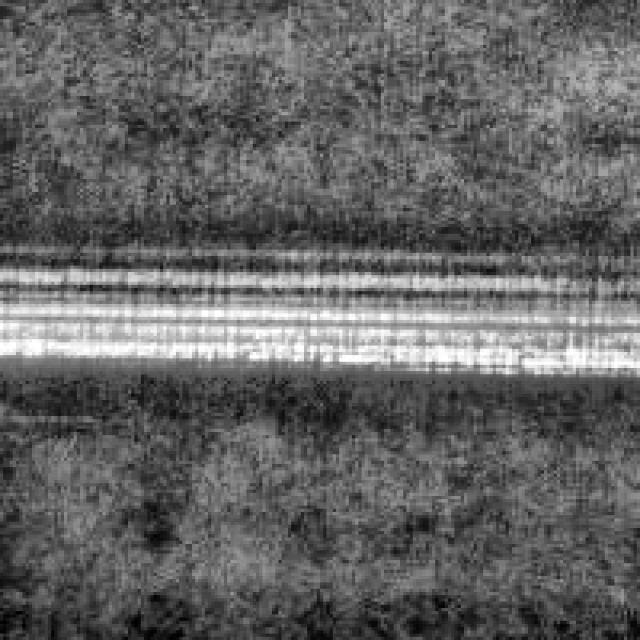Inclusion: (0, 268, 630, 377)
